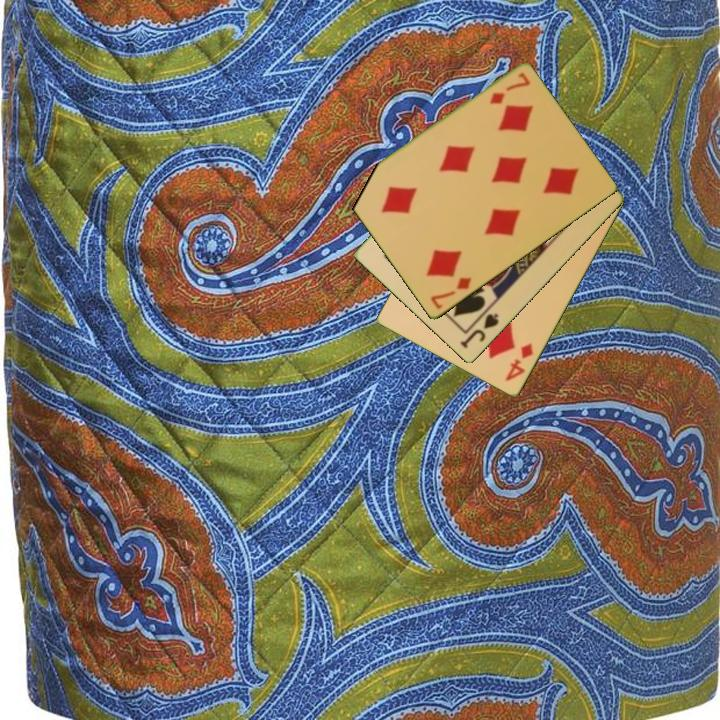4d: (502, 340, 536, 385)
7d: (427, 274, 475, 313), (486, 69, 533, 108)
Js: (456, 310, 502, 352)
